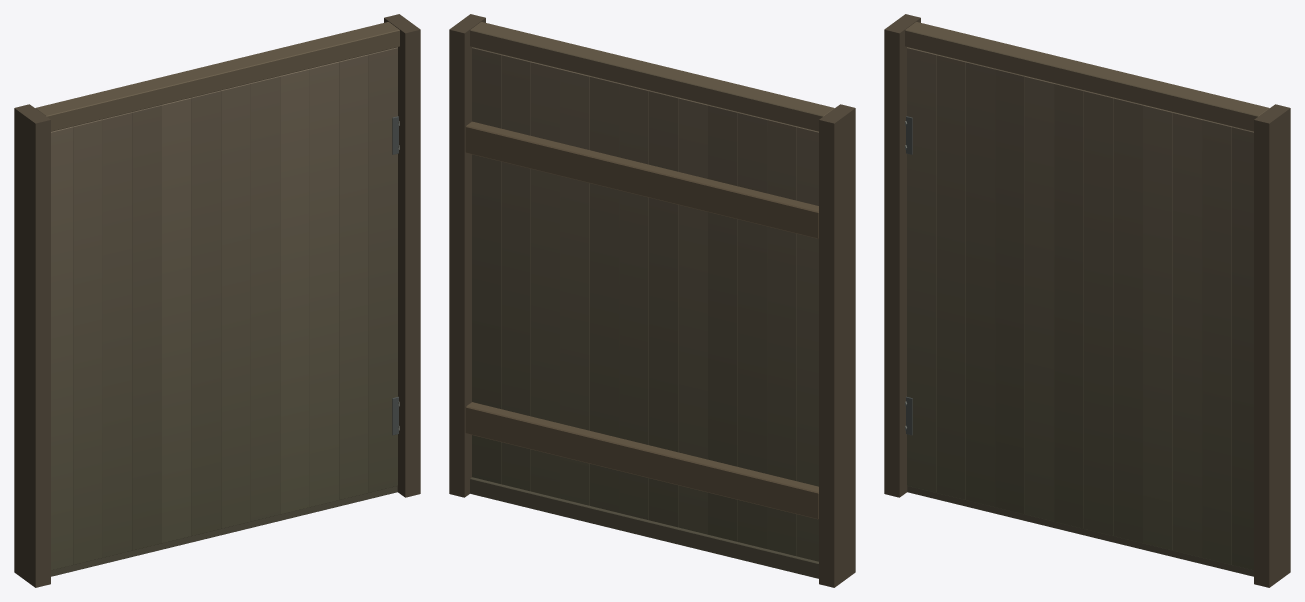
The model's file is SM_Henhouse_Fence_250_A.fbx.
3 views of the same model, side by side, from view 1: azimuth 30°, elevation 25°; view 2: azimuth 150°, elevation 25°; view 3: azimuth 330°, elevation 25° (orthographic).
Parts seen in each view (by area): view 1: SM_Henhouse_Fence_250_A; view 2: SM_Henhouse_Fence_250_A; view 3: SM_Henhouse_Fence_250_A.
Part boxes in pixels (x1,y1,x2,y2): SM_Henhouse_Fence_250_A: (14,14,420,587); SM_Henhouse_Fence_250_A: (449,14,855,587); SM_Henhouse_Fence_250_A: (884,14,1290,587).
Size of what is drawn, in the model's own units: 24 by 250 by 288.
